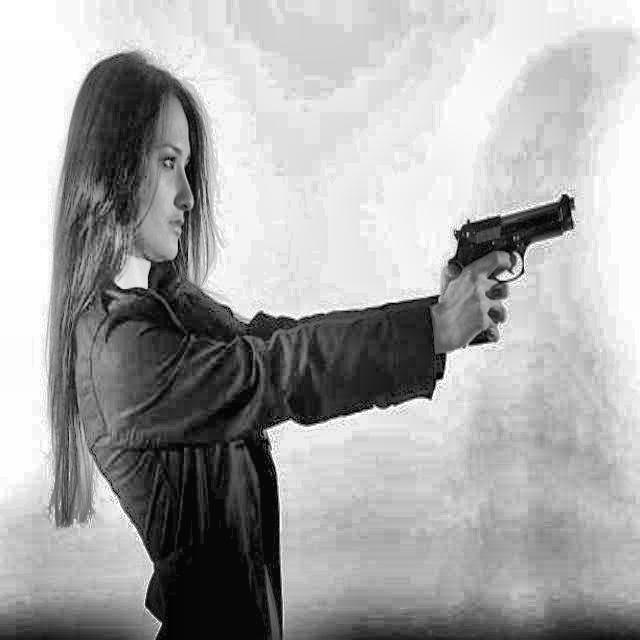pistol: (431, 186, 586, 374)
